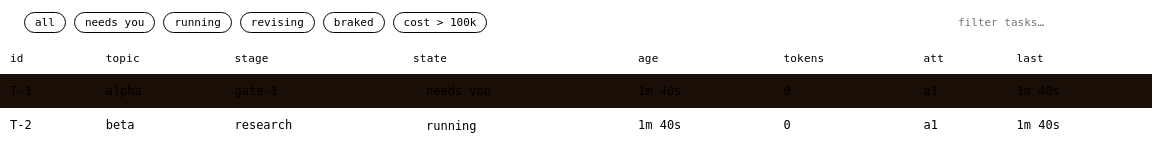
Test: ListView › filters by search box
Type "alpha" into the field with placeholder "filter tasks…".
click(1038, 22); type("alpha")  # box [948, 12, 1128, 33]
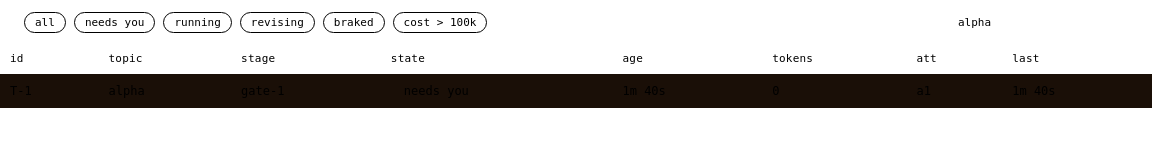
Expected: the text "alpha" is shown, [98, 74, 231, 108]
Now the text "beta" is gone
